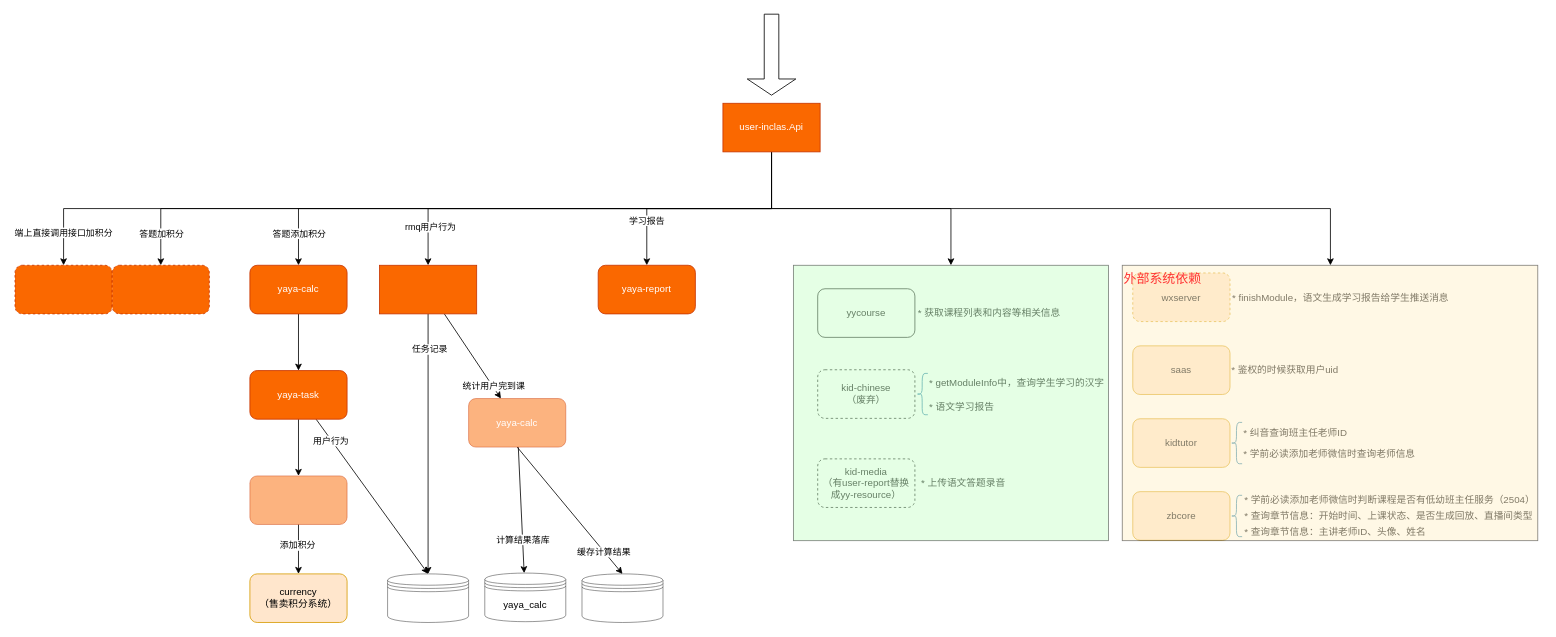
Some shapes in this 1556 by 637 pixel diagram are drawn without their labels. The centre of each missing label's shape, as x and y in pixels:
kidintegralinner: the point at 298,499
kidintegralinner （加积分收敛到计算引擎）: the point at 63,289
kidtask （迁移到计算引擎）: the point at 160,289
stored: the point at 622,597
user-inclass.userAction: the point at 428,289
yaya_inclass: the point at 428,597
内部系统依赖: the point at 950,402
